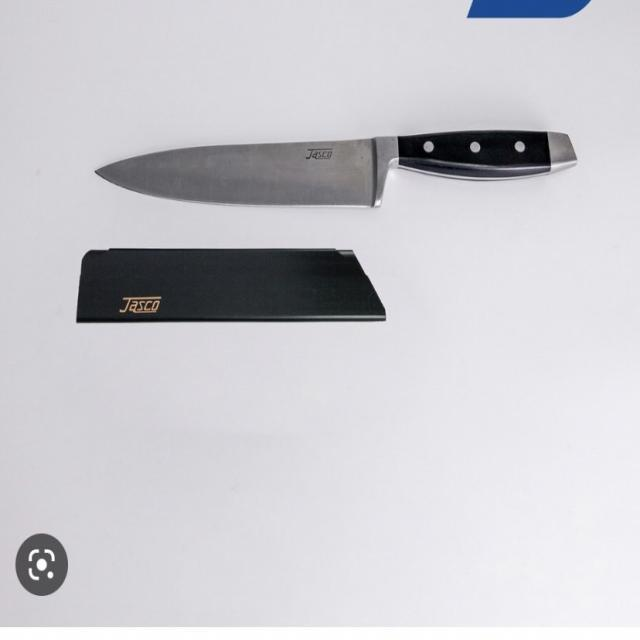Knife: (85, 118, 588, 222)
